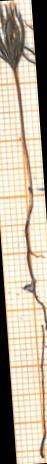flower: (0, 0, 29, 76)
root: (18, 192, 47, 461)
stem: (11, 74, 35, 192)
